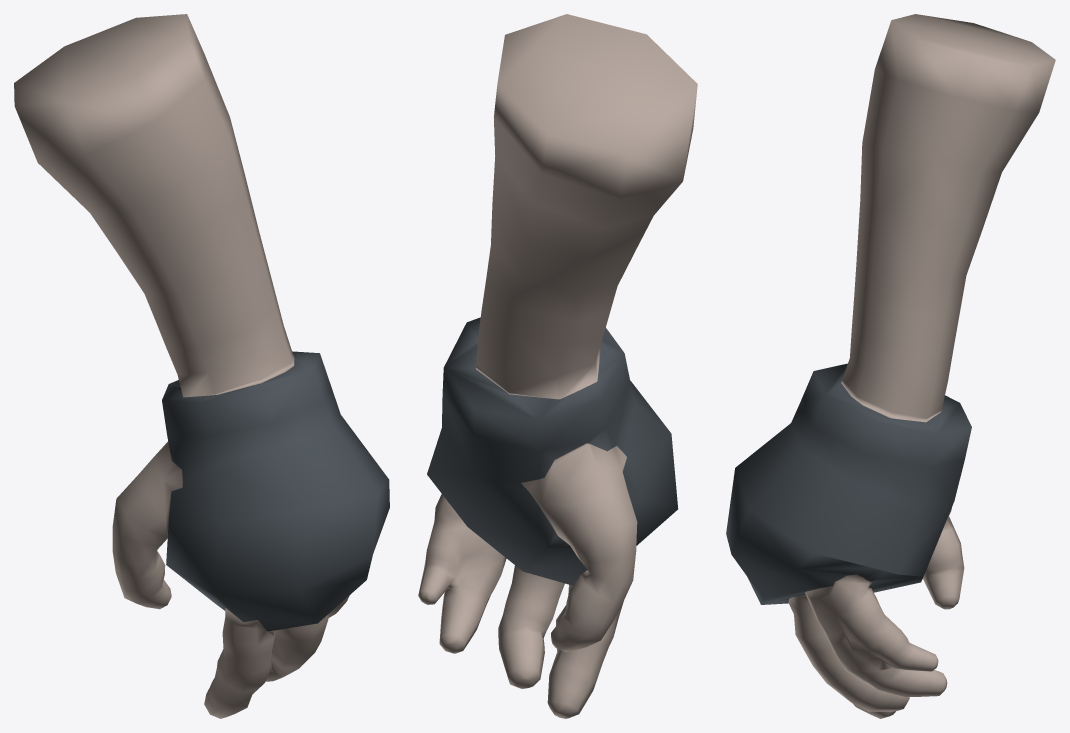
The model's file is left-hand.glb.
3 renders of one model, left to right at view 1: azimuth 30°, elevation 25°; view 2: azimuth 150°, elevation 25°; view 3: azimuth 270°, elevation 25°, orthographic. The views are drawn at different scales.
Bounding box in the file's own units: 0.4879 × 1.06 × 0.4726.
Materials: 1 (1 with a texture image).
